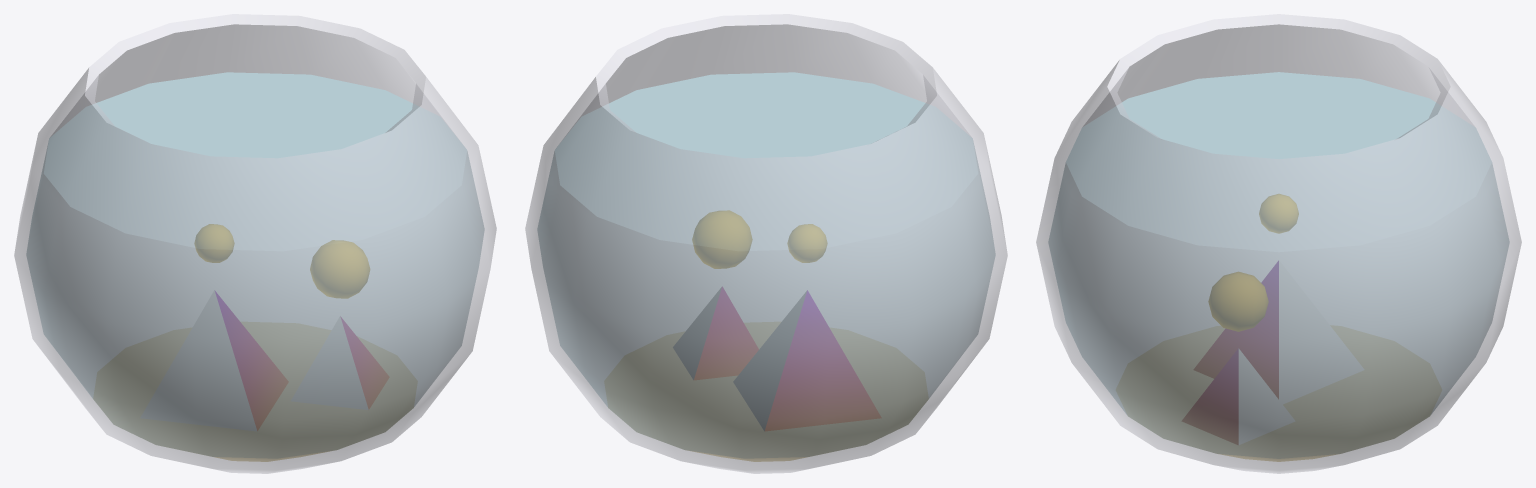
Rendered from b8dcb504-96d2-425c-8828-89481993fd20.glb.
3 renders of one model, left to right at view 1: azimuth 30°, elevation 25°; view 2: azimuth 150°, elevation 25°; view 3: azimuth 270°, elevation 25°, orthographic.
Visible parts, largest first — view 1: Fishbowl, Props; view 2: Fishbowl, Props; view 3: Fishbowl, Props.
Boxes of the visible parts, x1=… form: Fishbowl: x1=14, y1=14, x2=496, y2=473; Props: x1=141, y1=224, x2=388, y2=430; Fishbowl: x1=525, y1=14, x2=1007, y2=473; Props: x1=673, y1=210, x2=880, y2=430; Fishbowl: x1=1036, y1=14, x2=1521, y2=473; Props: x1=1182, y1=194, x2=1363, y2=444.
Size of the model in its own units: 0.4 by 0.3162 by 0.4.
2 materials, 2 textured.
